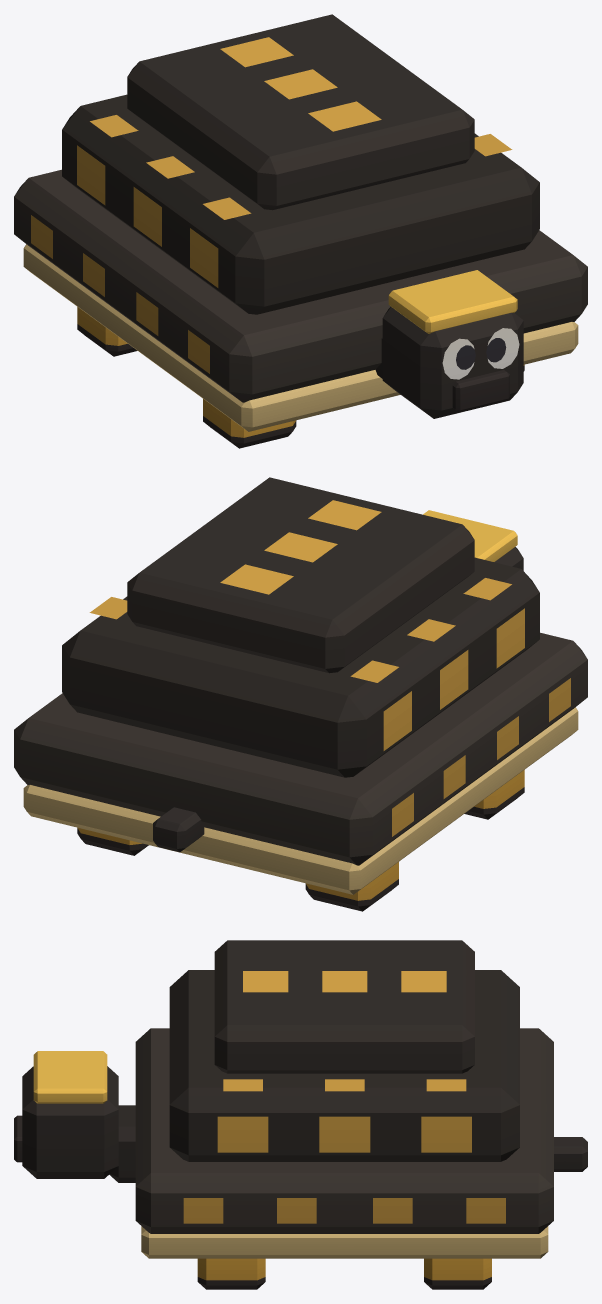
Rendered from jabuti.glb.
3 views of the same model, one above another, from view 1: azimuth 30°, elevation 25°; view 2: azimuth 150°, elevation 25°; view 3: azimuth 270°, elevation 25° (orthographic). The views are drawn at different scales.
Parts seen in each view (by area): view 1: body, head, leg-front-right, leg-back-right; view 2: body, head, leg-back-right, leg-front-right, leg-back-left; view 3: body, head, leg-front-left, leg-back-left.
Part boxes in pixels (left/top/right/bottom): body: left=14, top=14, right=587, bottom=431; head: left=375, top=270, right=523, bottom=418; leg-front-right: left=203, top=399, right=296, bottom=448; leg-back-right: left=77, top=307, right=137, bottom=356; body: left=14, top=477, right=587, bottom=894; head: left=423, top=510, right=523, bottom=570; leg-back-right: left=305, top=862, right=398, bottom=911; leg-front-right: left=464, top=770, right=524, bottom=819; leg-back-left: left=77, top=827, right=148, bottom=855; body: left=135, top=940, right=587, bottom=1258; head: left=14, top=1051, right=135, bottom=1182; leg-front-left: left=197, top=1258, right=265, bottom=1289; leg-back-left: left=424, top=1258, right=491, bottom=1289.
Size of the model in its own units: 1.33 by 0.964 by 2.03.
Materials: 1 (1 with a texture image).
